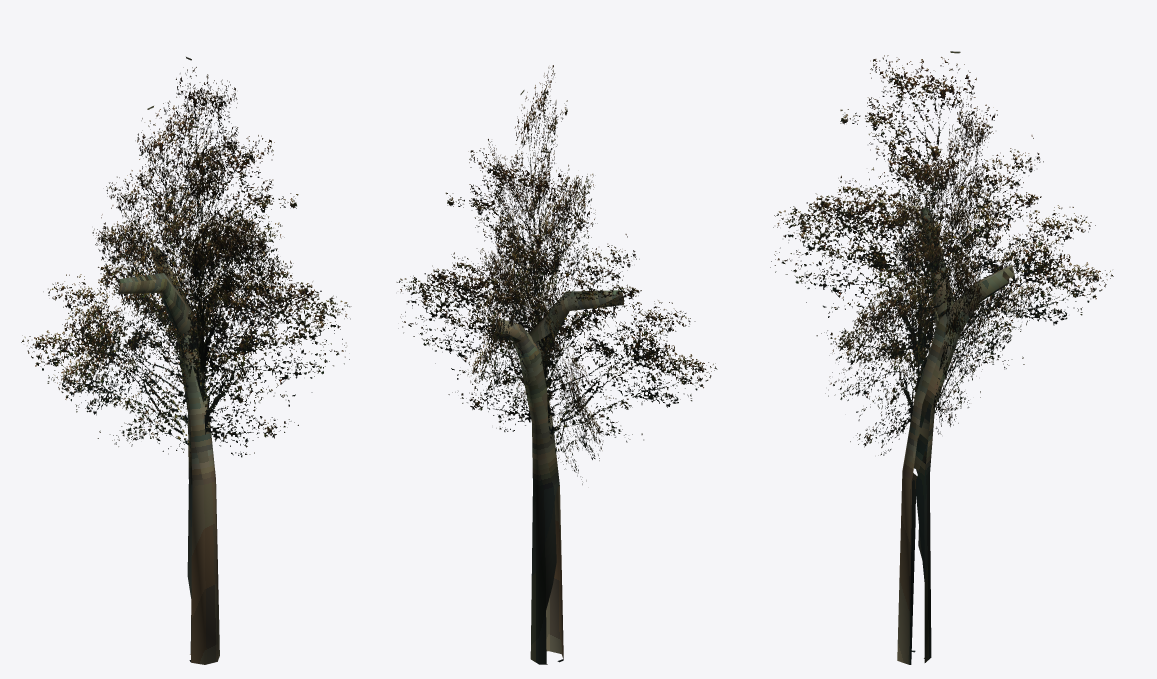
File: Tree003.glb
3 views of the same model, side by side, from view 1: azimuth 30°, elevation 25°; view 2: azimuth 150°, elevation 25°; view 3: azimuth 270°, elevation 25° (orthographic). The views are drawn at different scales.
Visible parts, largest first — view 1: Tree002; view 2: Tree002; view 3: Tree002.
Part boxes in pixels (bbox=[...]): Tree002: bbox=[21, 57, 351, 664]; Tree002: bbox=[396, 65, 717, 664]; Tree002: bbox=[770, 51, 1113, 664].
Bounding box in the file's own units: 8.99 × 16.64 × 9.5.
Materials: 1 (1 with a texture image).
